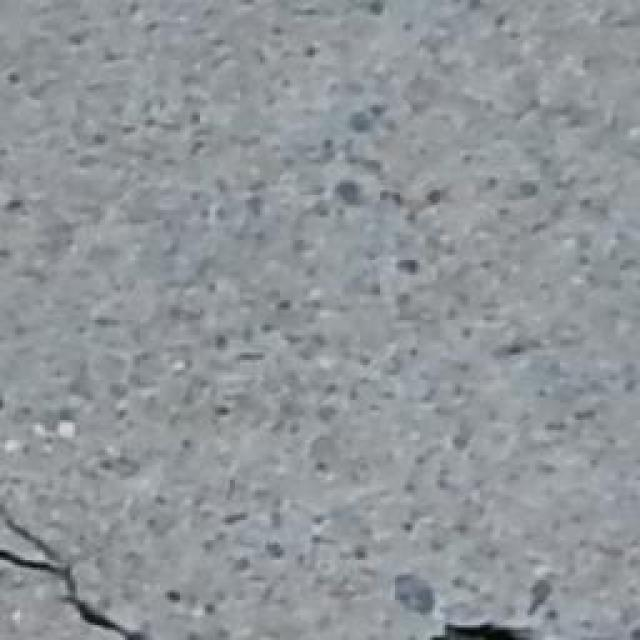concrete-crack: (0, 510, 157, 640), (425, 618, 536, 640)
